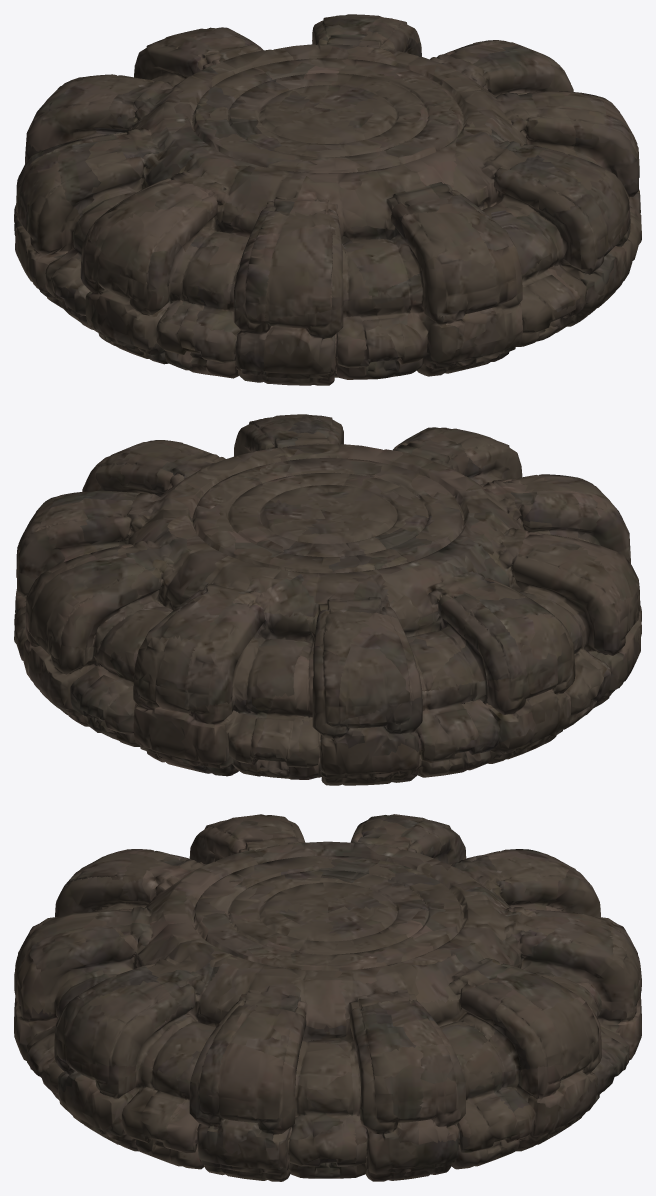
Rendered from arc-repulsor-lean.glb.
The picture shows the model from 3 angles, top to bottom: view 1: azimuth 30°, elevation 25°; view 2: azimuth 150°, elevation 25°; view 3: azimuth 270°, elevation 25°; orthographic projection.
Visible parts, largest first — view 1: chassis; view 2: chassis; view 3: chassis.
Boxes of the visible parts, left/top/right/bottom form: chassis: left=14, top=14, right=641, bottom=385; chassis: left=14, top=414, right=641, bottom=785; chassis: left=14, top=814, right=641, bottom=1181.
Bounding box in the file's own units: 0.9876 × 0.2826 × 0.9899.
Materials: 1 (1 with a texture image).
